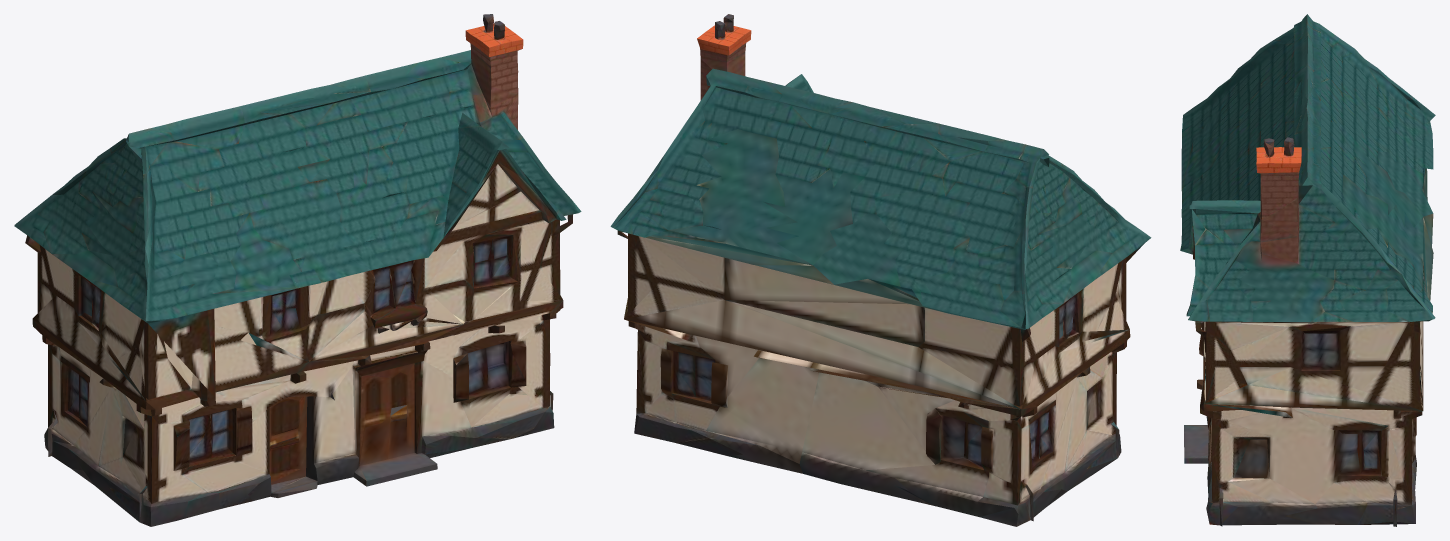
The model's file is houseA.glb.
3 renders of one model, left to right at view 1: azimuth 30°, elevation 25°; view 2: azimuth 150°, elevation 25°; view 3: azimuth 270°, elevation 25°, orthographic. The views are drawn at different scales.
Visible parts, largest first — view 1: output_unwrapped; view 2: output_unwrapped; view 3: output_unwrapped.
Part boxes in pixels (x1,y1,x2,y2): output_unwrapped: (14, 14, 581, 526); output_unwrapped: (610, 14, 1151, 526); output_unwrapped: (1180, 14, 1435, 526).
Size of the model in its own units: 1.9 by 1.59 by 0.9879.
Materials: 1 (1 with a texture image).
